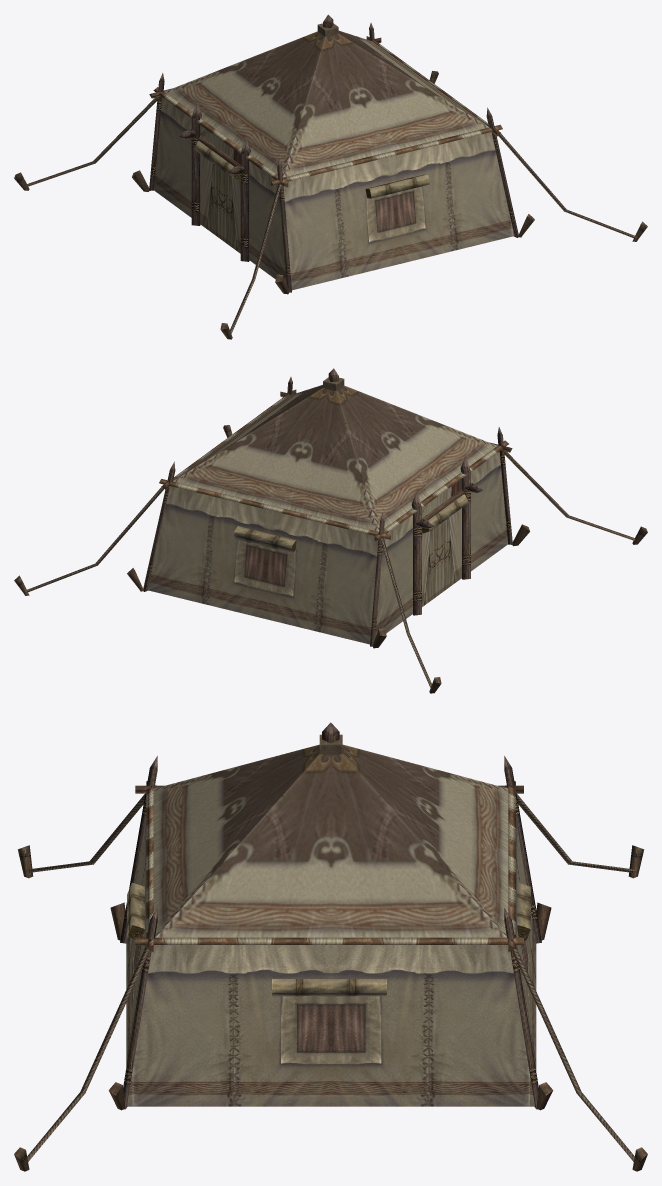
The model's file is zhangpeng_yc_41.FBX.
3 renders of one model, top to bottom at view 1: azimuth 30°, elevation 25°; view 2: azimuth 150°, elevation 25°; view 3: azimuth 270°, elevation 25°, orthographic. The views are drawn at different scales.
Parts seen in each view (by area): view 1: zhangpeng_yc_41; view 2: zhangpeng_yc_41; view 3: zhangpeng_yc_41.
Part boxes in pixels (x1,y1,x2,y2): zhangpeng_yc_41: [14, 14, 647, 339]; zhangpeng_yc_41: [14, 368, 647, 693]; zhangpeng_yc_41: [14, 722, 647, 1171].
Size of what is drawn, in the model's own units: 1278 by 576 by 1106.
